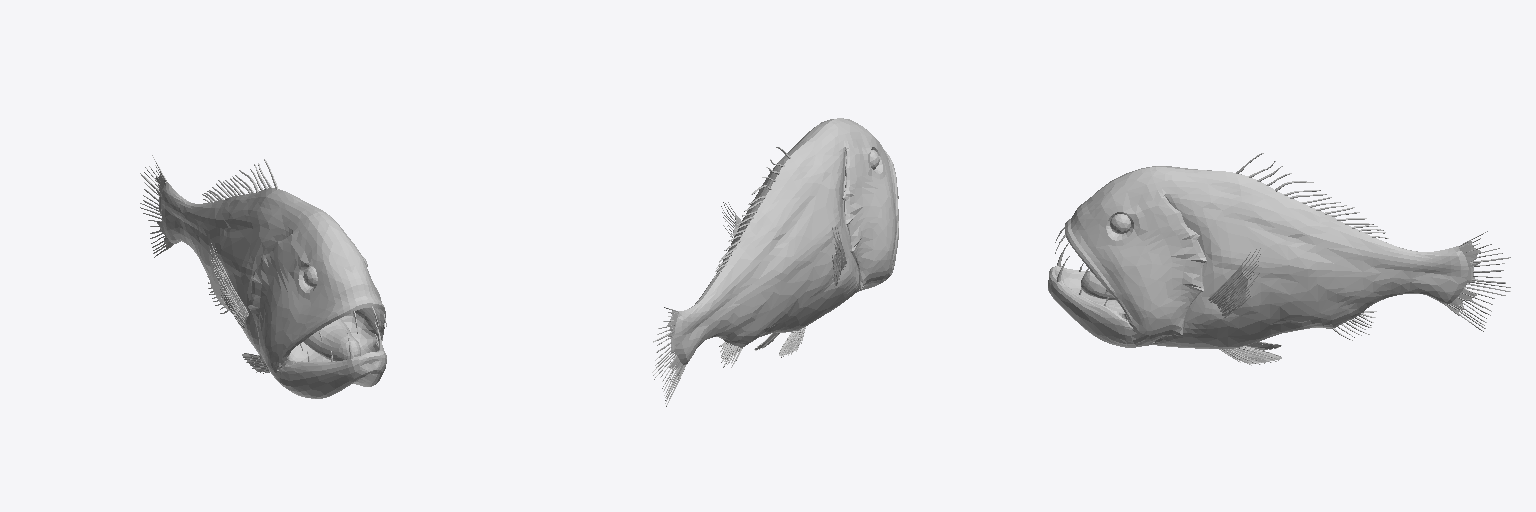
The model's file is fangtooth.obj.
The picture shows the model from 3 angles: view 1: azimuth 30°, elevation 25°; view 2: azimuth 150°, elevation 25°; view 3: azimuth 270°, elevation 25°; orthographic projection.
Parts seen in each view (by area): view 1: meshes_0; view 2: meshes_0; view 3: meshes_0.
Part boxes in pixels (left/top/right/bottom): meshes_0: left=140, top=155, right=386, bottom=398; meshes_0: left=652, top=118, right=898, bottom=406; meshes_0: left=1048, top=153, right=1510, bottom=365.
Size of the model in its own units: 0.0434 by 0.0754 by 0.1538.